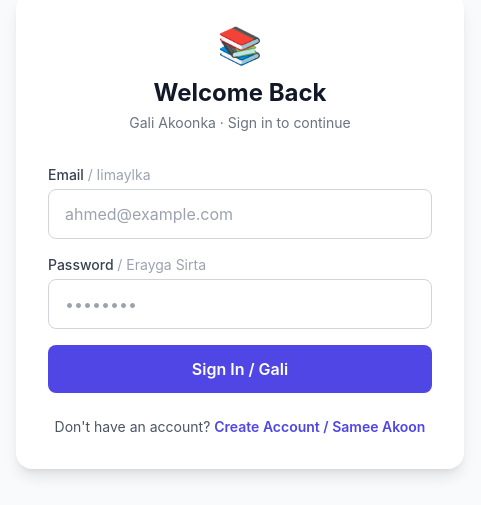
Scenario: Login mode › shows "Password is required" when password is empty
The image size is (481, 505).
Type "user@example.com" into the field with placeholder "ahmed@example.com" at (240, 214), box [48, 189, 432, 239]
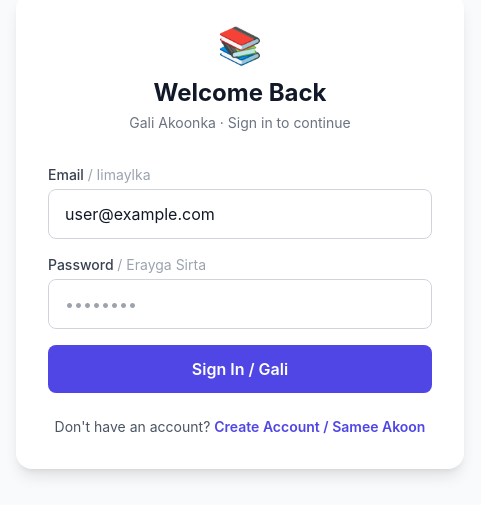
Click the button "Sign In / Gali" at (240, 369), box [48, 345, 432, 393]
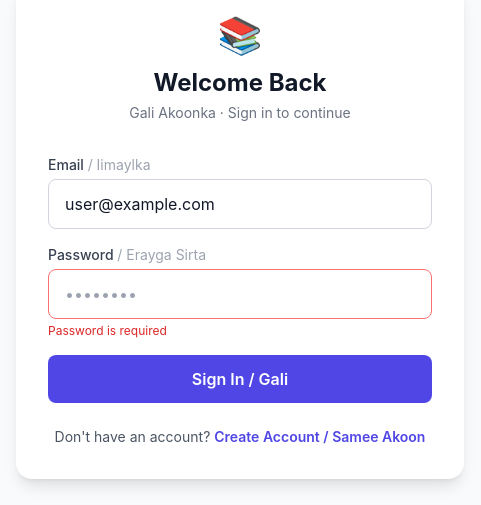
Result: the text "Password is required" is shown at [48, 323, 167, 338]
